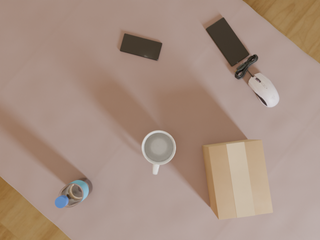bottle: (55, 178, 92, 208)
box: (202, 140, 273, 220)
cup: (142, 131, 176, 174)
mouse: (248, 73, 279, 107)
phone: (206, 18, 249, 66), (120, 34, 162, 61)
